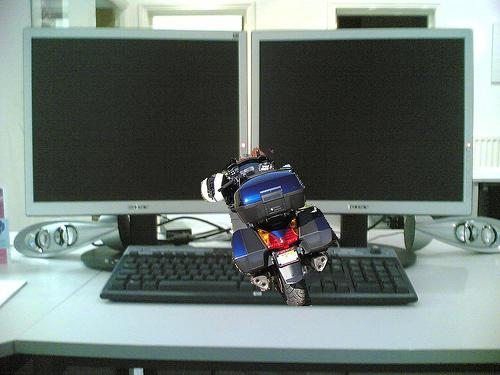tampered: (202, 147, 338, 306)
